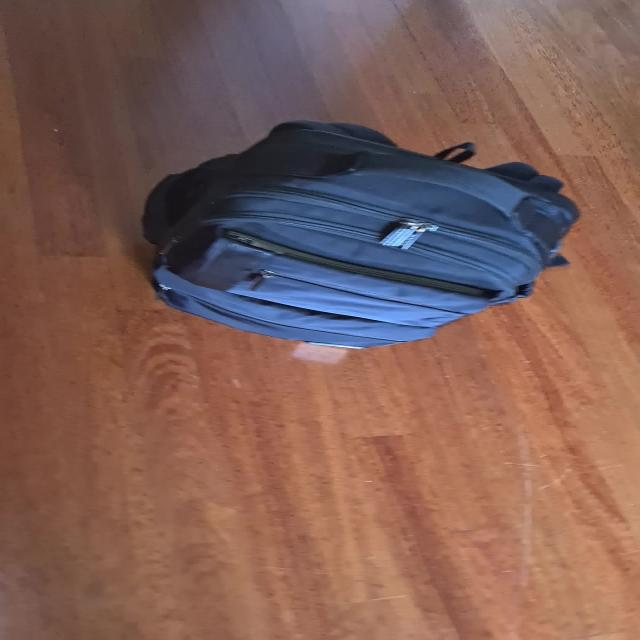backpack: (128, 110, 586, 352)
